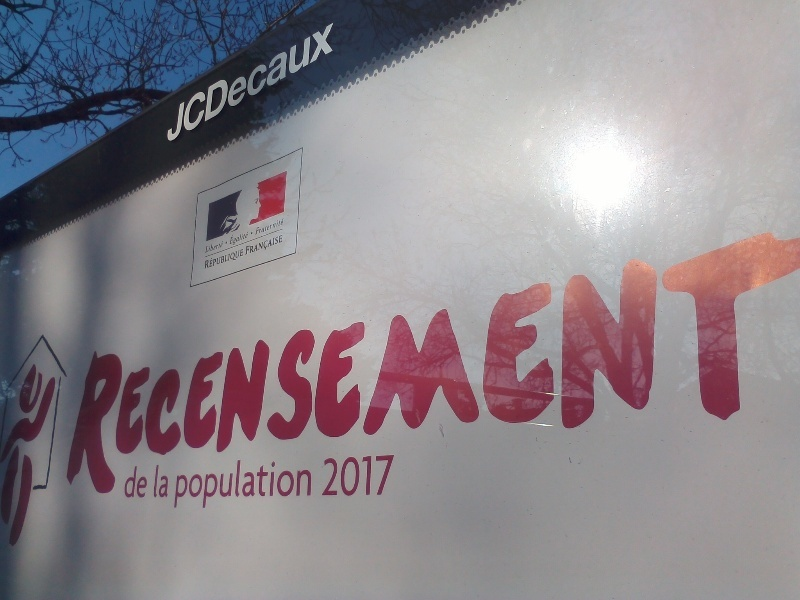text: (97, 224, 112, 500), (113, 224, 128, 500), (129, 224, 144, 500), (145, 224, 160, 500), (161, 224, 176, 500), (177, 224, 192, 500), (193, 224, 208, 500), (209, 224, 224, 500), (225, 224, 240, 500), (241, 224, 256, 500), (257, 224, 272, 500), (273, 224, 288, 500), (289, 224, 304, 500), (305, 224, 320, 500), (321, 224, 336, 500), (337, 224, 352, 500), (353, 224, 368, 500), (369, 224, 384, 500), (385, 224, 400, 500), (401, 224, 416, 500), (417, 224, 432, 500), (433, 224, 448, 500), (449, 224, 464, 500), (465, 224, 480, 500), (481, 224, 496, 500), (497, 224, 512, 500), (513, 224, 528, 500), (529, 224, 544, 500), (545, 224, 560, 500), (561, 224, 576, 500), (577, 224, 592, 500), (593, 224, 608, 500), (609, 224, 624, 500), (625, 224, 640, 500), (641, 224, 656, 500), (657, 224, 672, 500), (673, 224, 688, 500), (689, 224, 704, 500), (705, 224, 720, 500), (721, 224, 736, 500), (737, 224, 752, 500), (753, 224, 768, 500), (769, 224, 784, 500), (785, 224, 799, 500), (321, 11, 337, 147), (177, 11, 192, 147), (193, 11, 208, 147), (209, 11, 224, 147), (225, 11, 240, 147), (241, 11, 256, 147), (257, 11, 272, 147), (273, 11, 288, 147), (289, 11, 304, 147), (305, 11, 320, 147), (90, 224, 96, 500), (193, 455, 208, 510), (209, 455, 224, 510), (225, 455, 240, 510), (241, 455, 256, 510), (257, 455, 272, 510), (273, 455, 288, 510), (289, 455, 304, 510), (179, 455, 192, 510), (171, 11, 176, 147), (337, 454, 352, 497), (353, 454, 368, 497), (369, 454, 384, 497), (129, 464, 144, 500), (305, 455, 314, 510), (325, 454, 336, 497), (385, 454, 395, 497), (161, 464, 173, 499), (209, 247, 224, 271), (225, 247, 240, 271), (257, 234, 272, 257), (257, 217, 272, 236), (152, 464, 160, 499), (245, 234, 256, 257), (273, 234, 284, 257), (273, 217, 286, 236), (209, 240, 225, 255), (229, 230, 240, 248), (241, 230, 250, 248), (145, 464, 149, 500), (204, 247, 208, 271), (241, 247, 244, 271), (205, 240, 208, 255), (254, 217, 256, 236)
